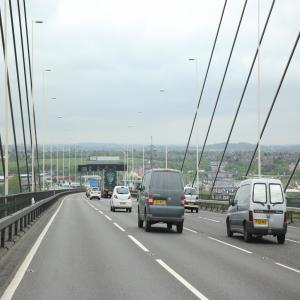Vehicle-registration-plate: (255, 220, 268, 226), (155, 201, 167, 206), (121, 204, 126, 206), (189, 204, 194, 206)
